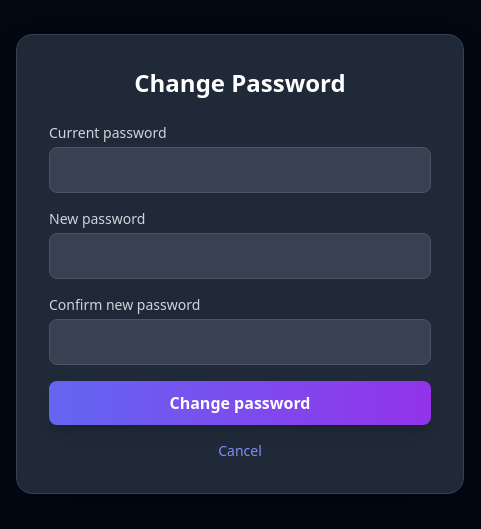
Test: ChangePasswordPage › blocks submit when new password is too short
The image size is (481, 529).
Type "CurrentPass1" into the password field with id "current-password" at (240, 170), box [49,147,431,193]
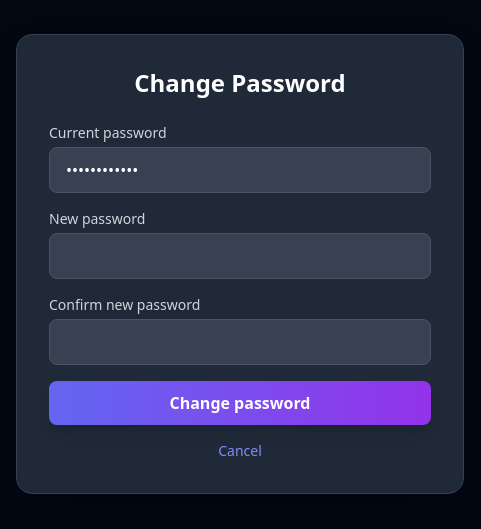
Type "Short1" into the password field with id "new-password" at (240, 256), box [49,233,431,279]
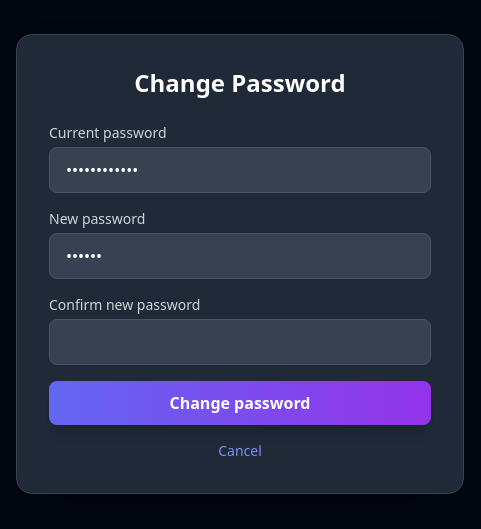
Type "Short1" into the password field with id "confirm-new-password" at (240, 342), box [49,319,431,365]
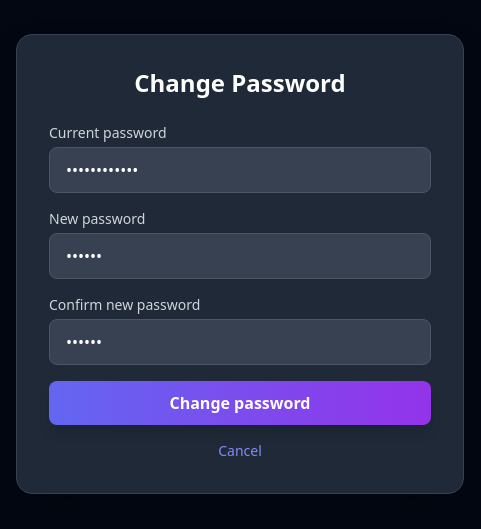
Submit the form, box [49,123,431,425]
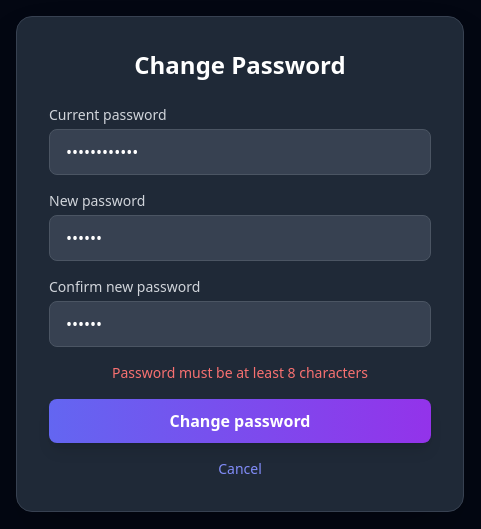
Now the text with class "error" reads "Password must be at least 8 characters", box [112,363,368,382]
